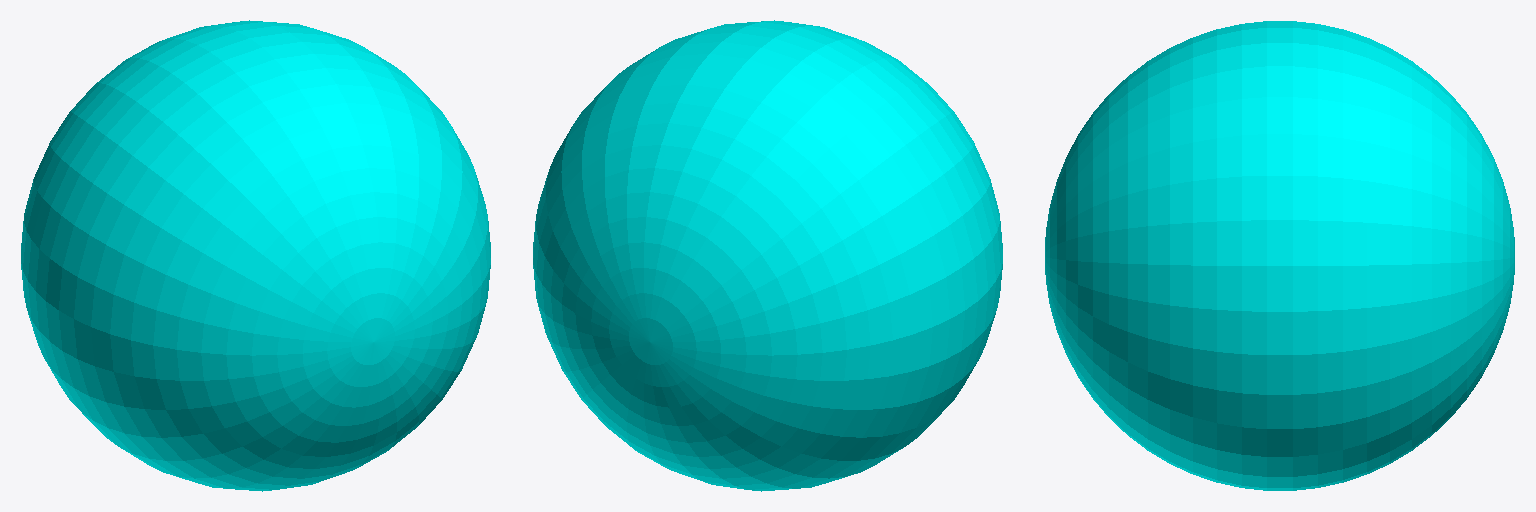
URDF robot description (urdf_robot):
<?xml version="0.0" ?>
<robot name="urdf_robot">
  <link name="baseLink">
    <inertial>
      <origin rpy="0 0 0" xyz="0 0 0"/>
       <mass value="0.0"/>
       <inertia ixx="1" ixy="0" ixz="0" iyy="1" iyz="0" izz="1"/>
    </inertial>
    <visual>
      <origin rpy="0 0 0" xyz="0 0 0"/>
      <geometry>
				<mesh filename="sphere_smooth.obj" scale="0.01 0.01 0.01"/>      
      </geometry>
      <material name="green">
        <color rgba="0 1.0 1.0 1"/>
        <specular rgb="1 1 1"/>
      </material>
    </visual>
  </link>
</robot>


--- Facts derived from the render (not from the file) ---
The picture shows the robot from 3 angles, left to right: view 1: azimuth 30°, elevation 25°; view 2: azimuth 150°, elevation 25°; view 3: azimuth 270°, elevation 25°; orthographic projection.
Robot: urdf_robot — 1 links, 0 joints (none); root link baseLink; default pose: every joint at zero.
Links seen in each view (by area): view 1: baseLink; view 2: baseLink; view 3: baseLink.
Link boxes in pixels (x1=…): baseLink: x1=21, y1=20, x2=490, y2=491; baseLink: x1=533, y1=20, x2=1002, y2=491; baseLink: x1=1045, y1=21, x2=1514, y2=490.
Size in the robot's own frame: 0.02 by 0.02 by 0.02 metres.
Meshes: 1 distinct files referenced, 1 mesh visuals loaded (1 OBJ).